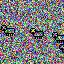sheep: (0, 24, 16, 37), (30, 27, 45, 40), (51, 31, 64, 43), (59, 43, 64, 53)
